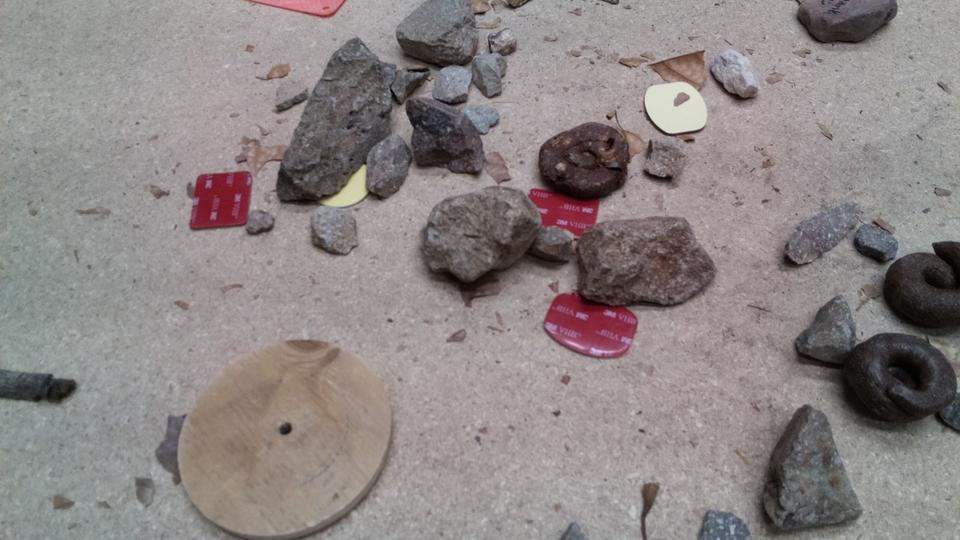poop: (838, 331, 957, 428), (538, 119, 631, 202), (883, 238, 960, 328)
